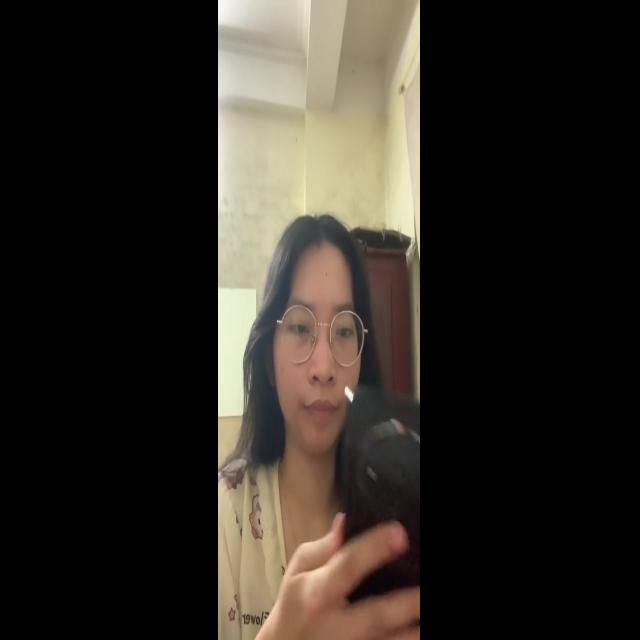phone: (344, 383, 424, 610)
student: (250, 190, 360, 462)
